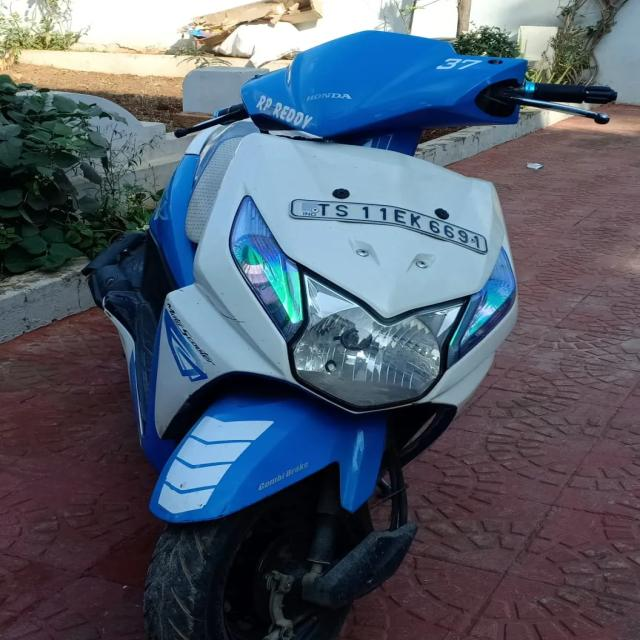Motor-Cycle: (91, 47, 528, 640)
Plate: (286, 193, 496, 258)
